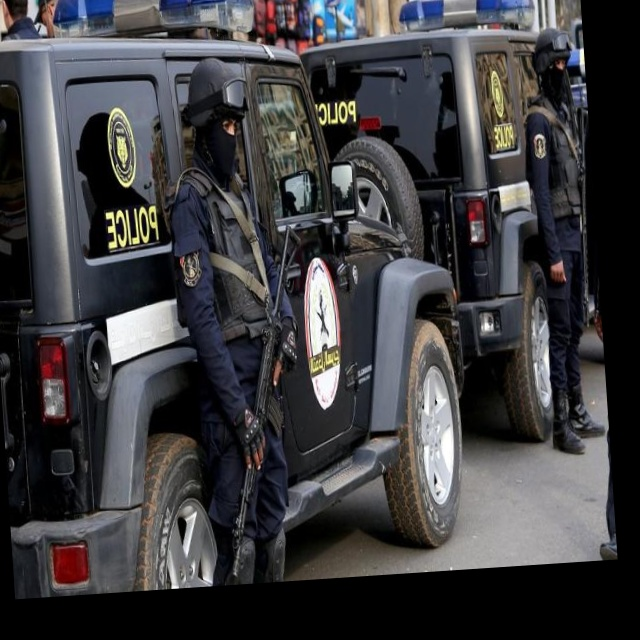person: (156, 52, 316, 586), (517, 24, 607, 457), (0, 0, 41, 41), (31, 0, 69, 39)
police-car: (0, 0, 477, 597), (291, 0, 590, 373)
